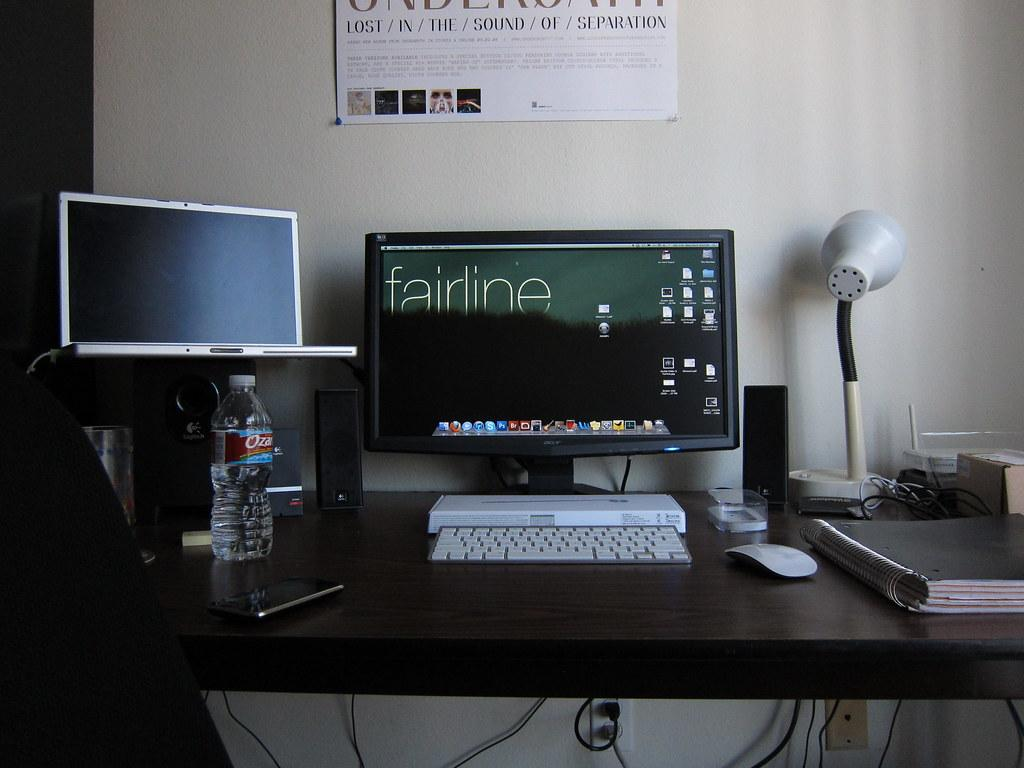computer: (363, 228, 741, 533), (57, 189, 360, 554)
